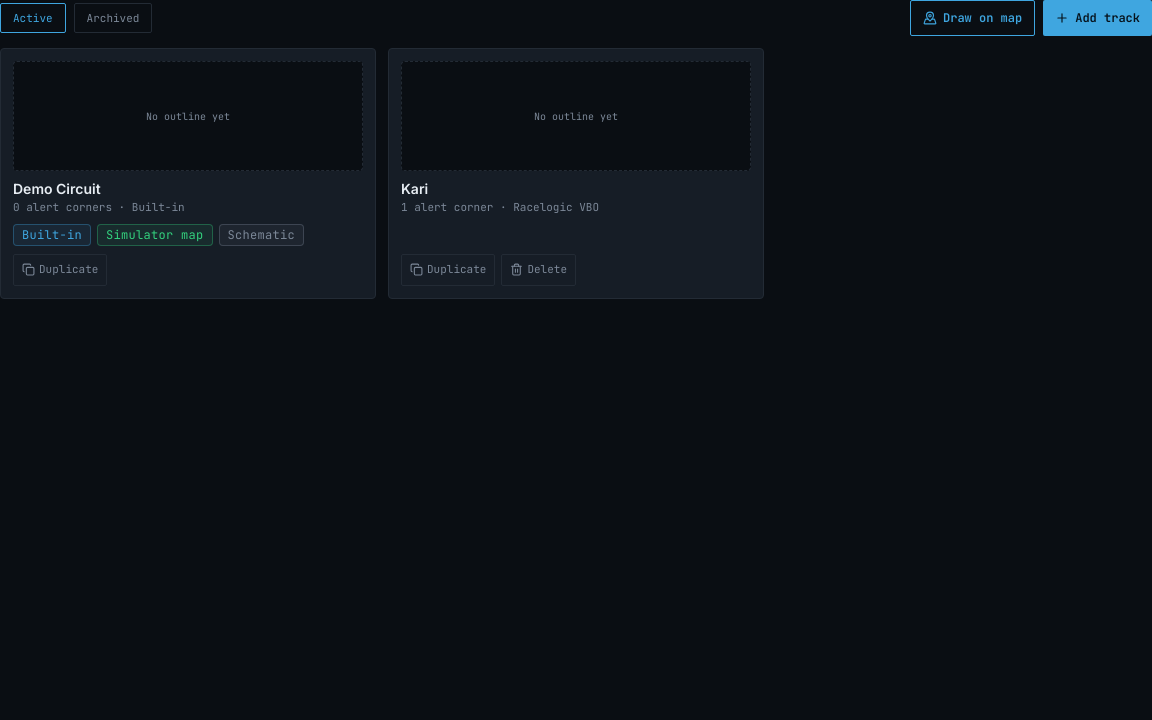
Test: MapsBrowser › duplicates any map (the Demo Circuit too) under a new name and reports clamped limits
Click the button with test id "duplicate-Demo Circuit" at (60, 270), box [13, 254, 107, 286]
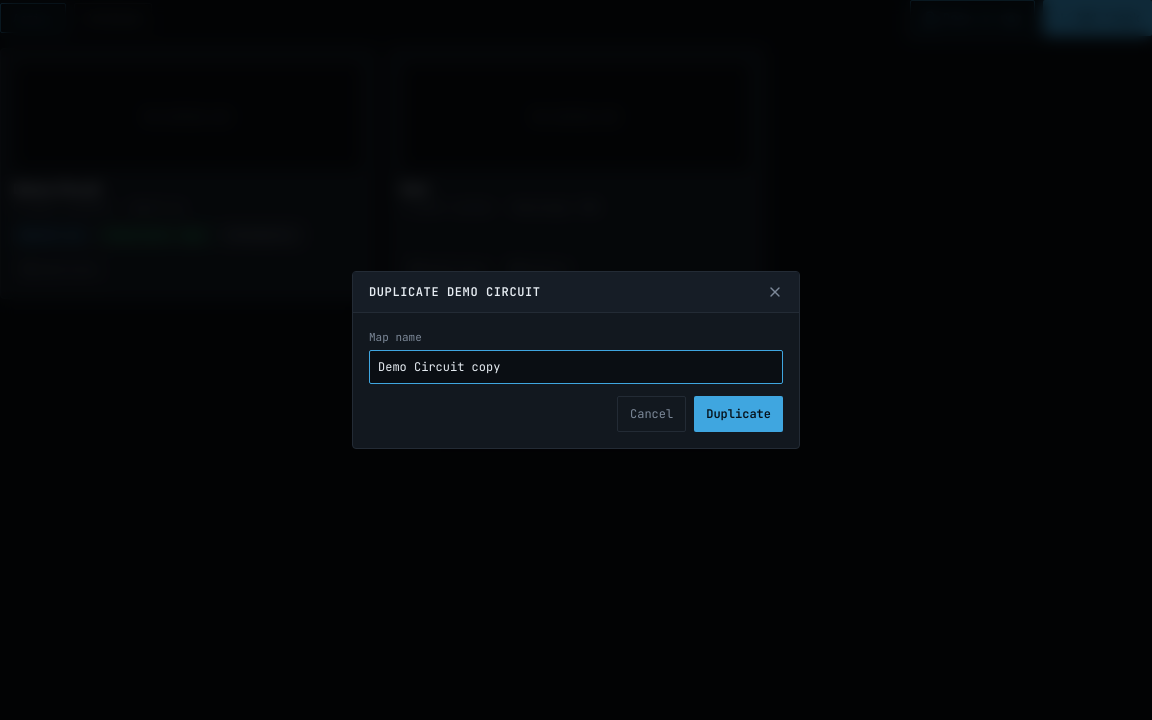
Now the field with test id "map-name-input" holds "Demo Circuit copy"
Replace the text in the field with test id "map-name-input" with "My copy" at (576, 367), box [369, 350, 783, 384]
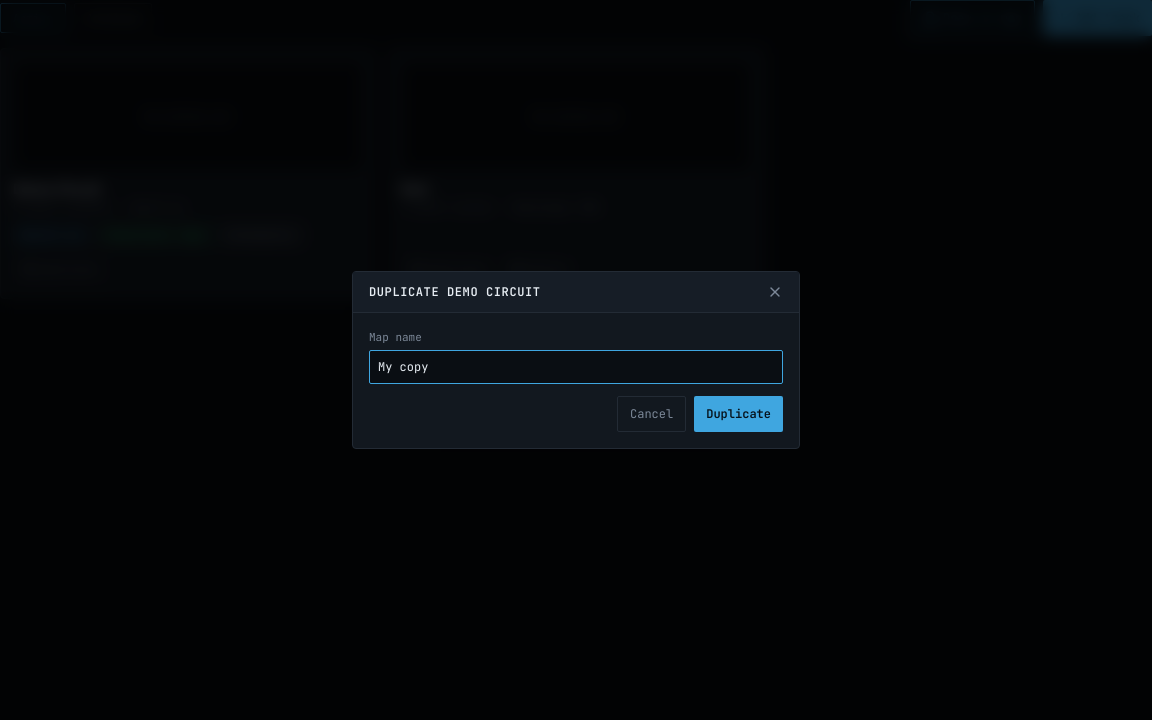
Click the button with test id "map-name-submit" at (739, 414), box [694, 396, 783, 432]
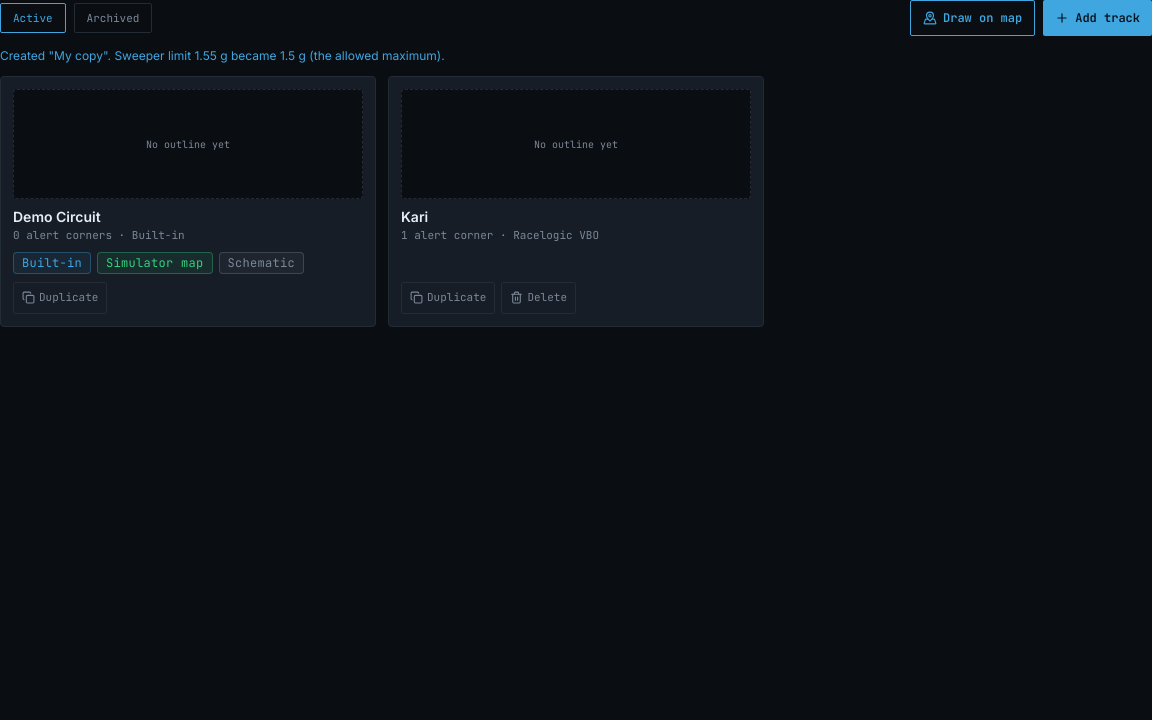
Now the text with test id "maps-notice" shows "Sweeper limit 1.55 g became 1.5 g", box [0, 48, 445, 63]
